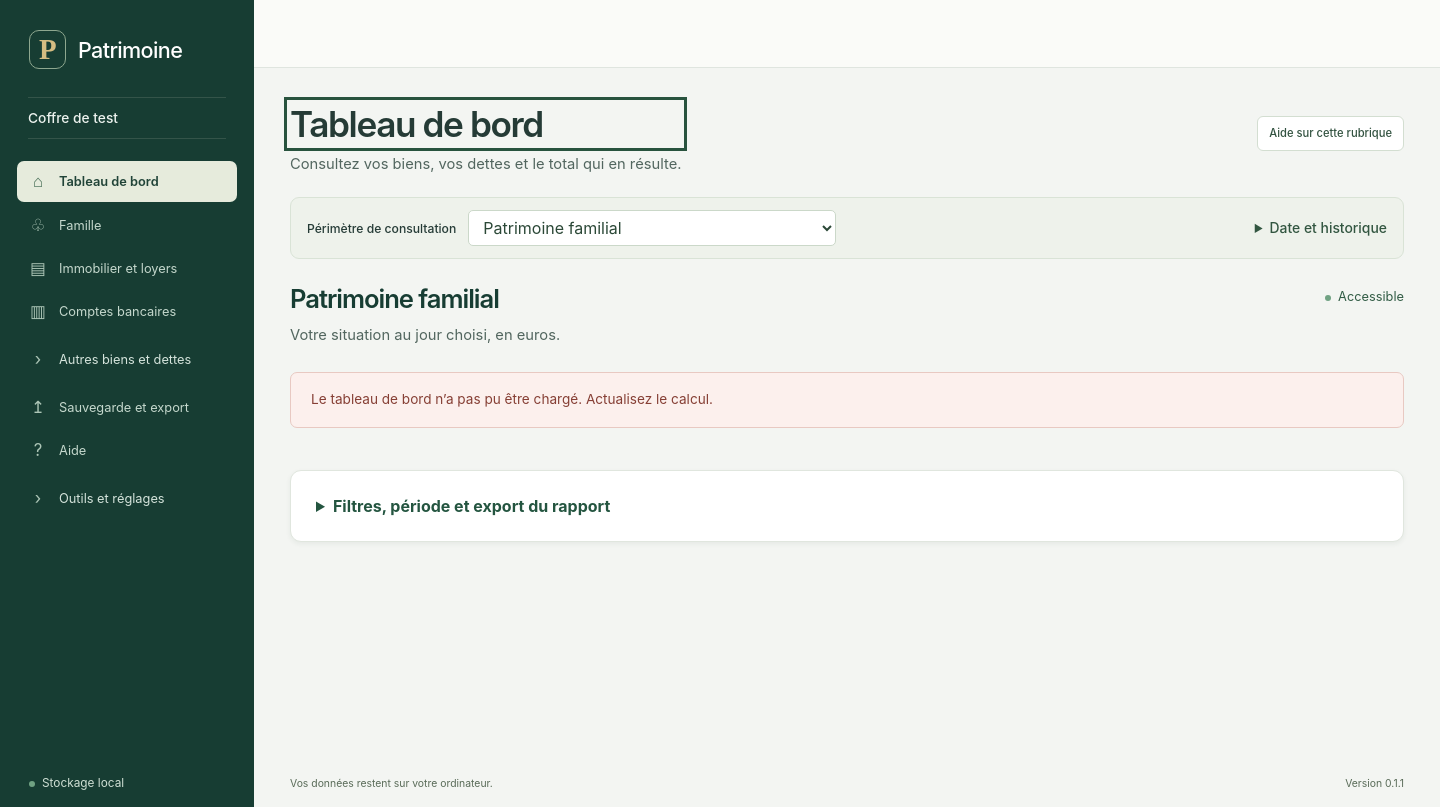
it: SHELL-02 garde le dernier K exact quand la réponse récente termine en premier
Expected: the text "Coffre de test" is shown, [28,110,118,126]
Step 1. Click the button "› Outils et réglages" → (127, 498), box [17,478,237,518]
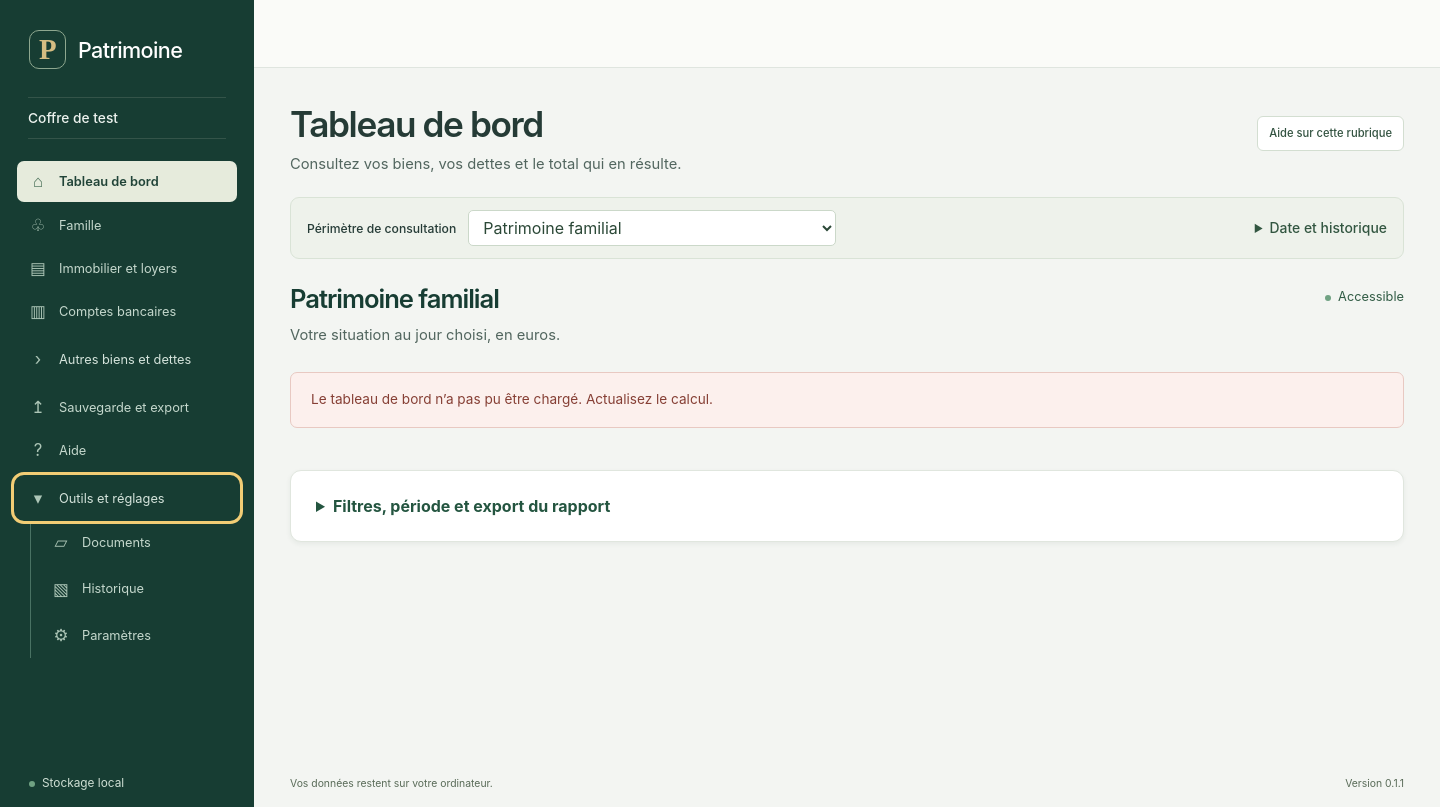
Step 2. Click the button "▧ Historique" → (138, 589), box [40,568,237,611]
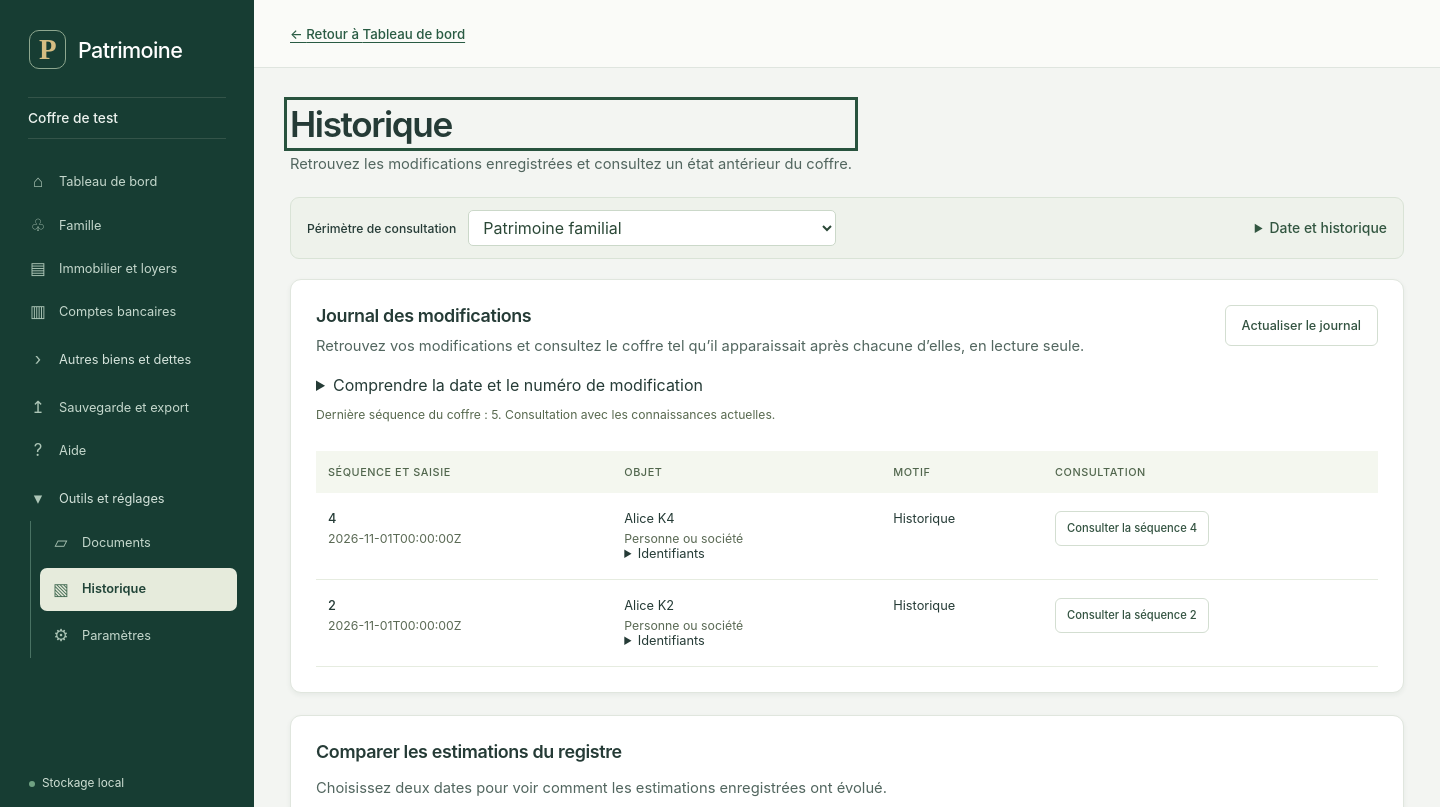
Step 3. Click the button "Consulter la séquence 4" → (1132, 528), box [1055,511,1209,546]
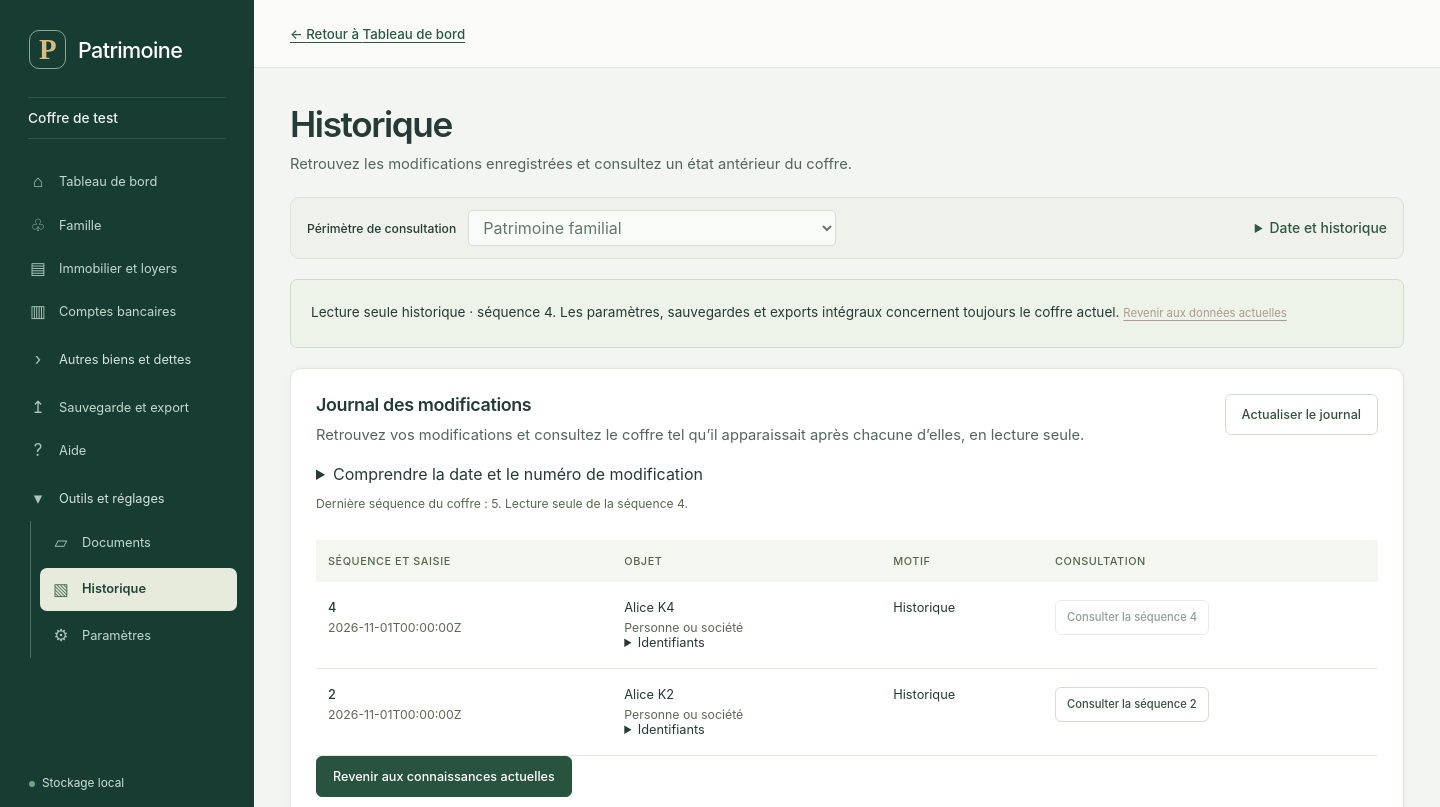
Step 4. Click the button "Consulter la séquence 2" → (1132, 704), box [1055,687,1209,722]
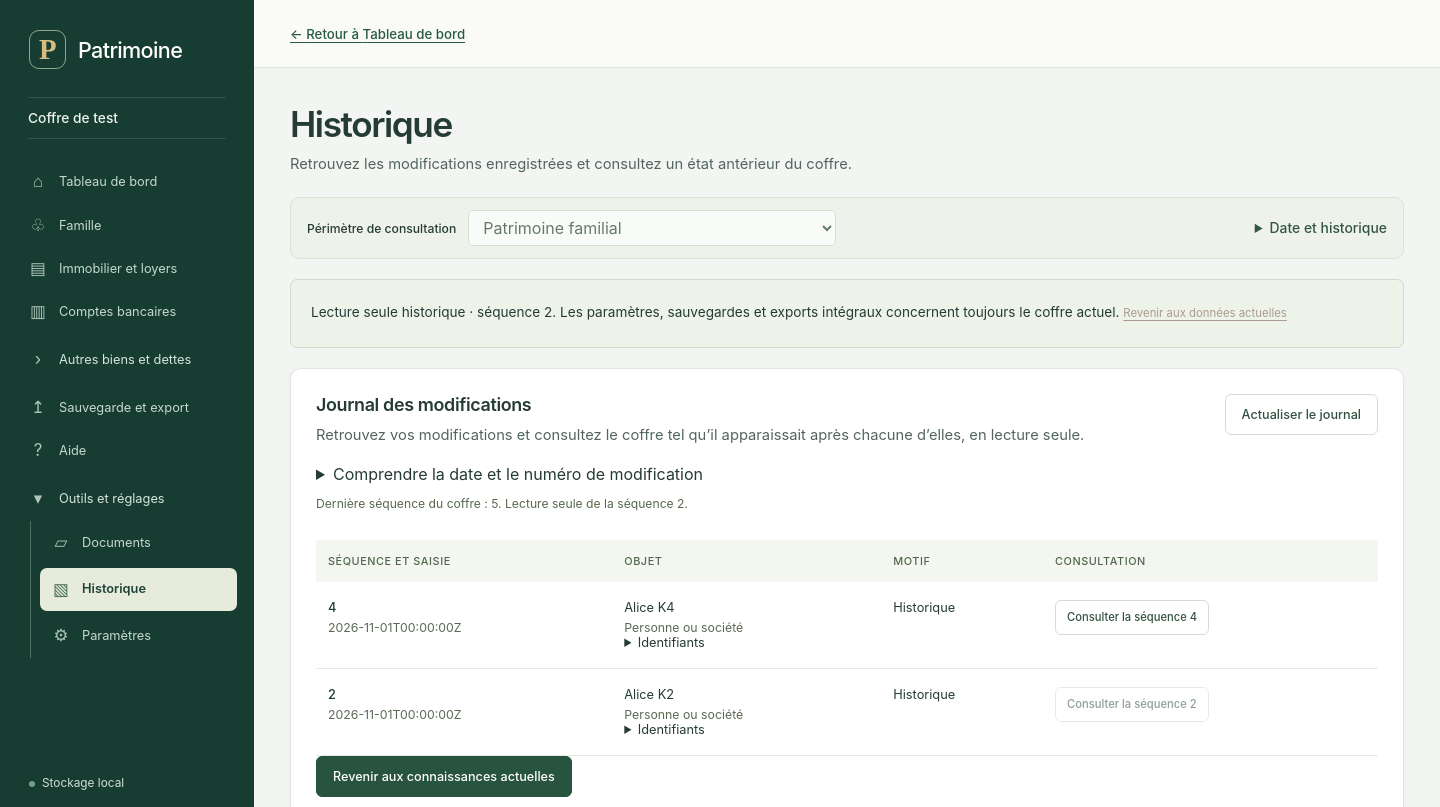
Step 5. Click the button "♧ Famille" → (127, 225), box [17,205,237,245]
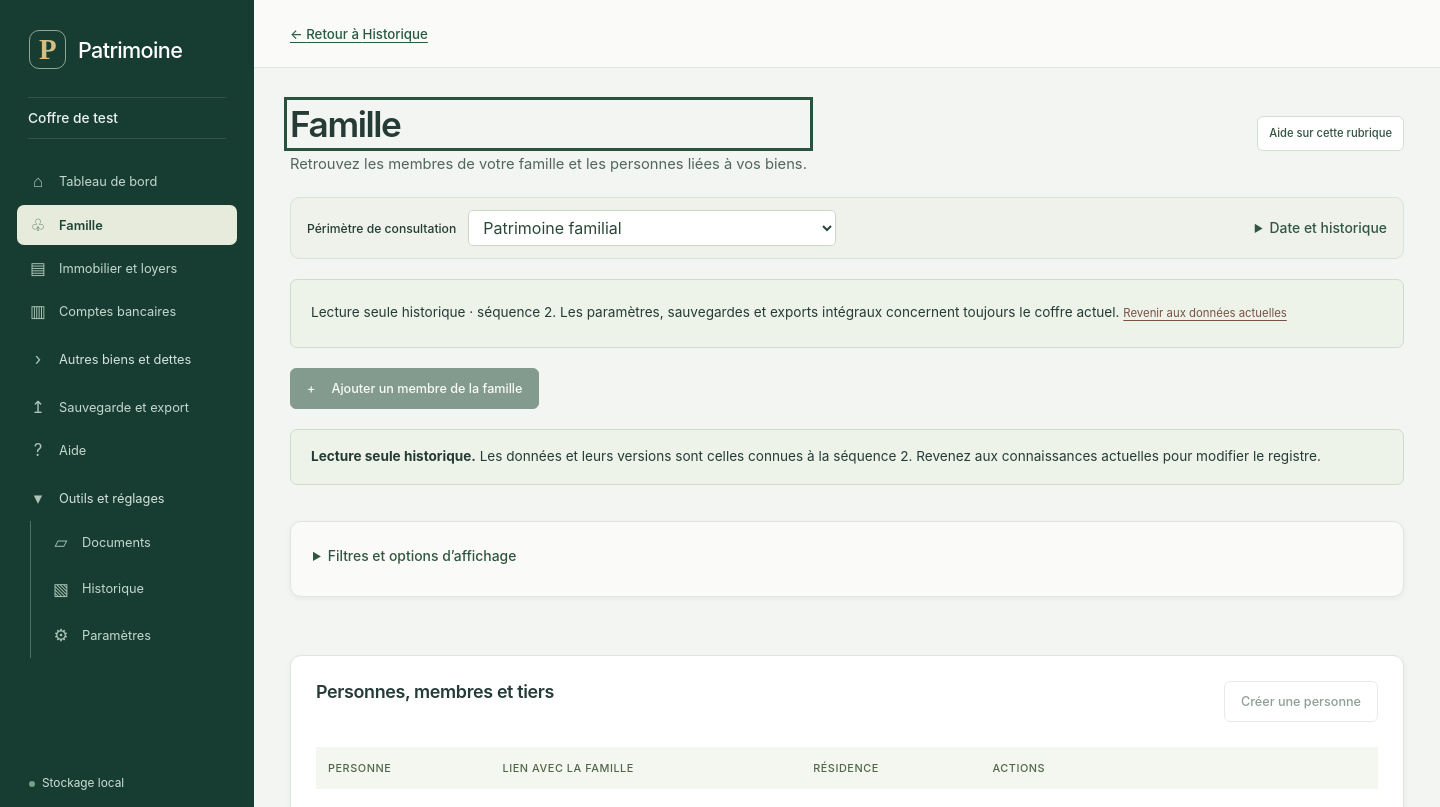
Now the button "Créer une personne" is disabled, box [1224,681,1378,722]
Now the text "Alice K4" is gone
